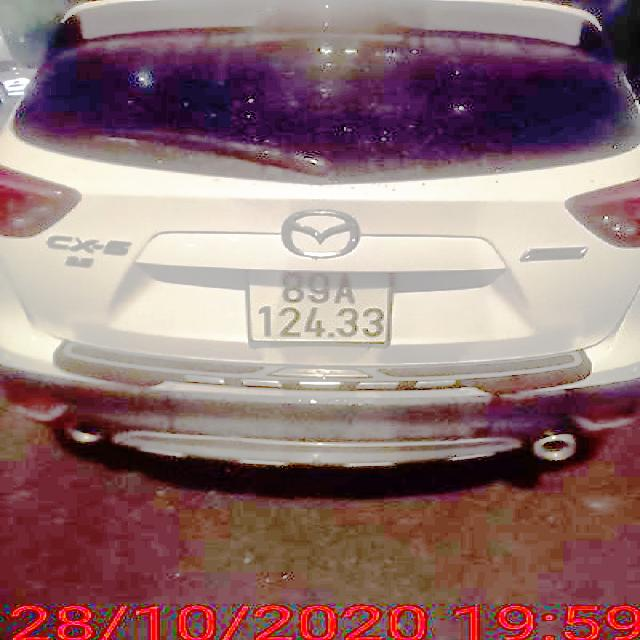license_plate: (248, 268, 393, 349)
